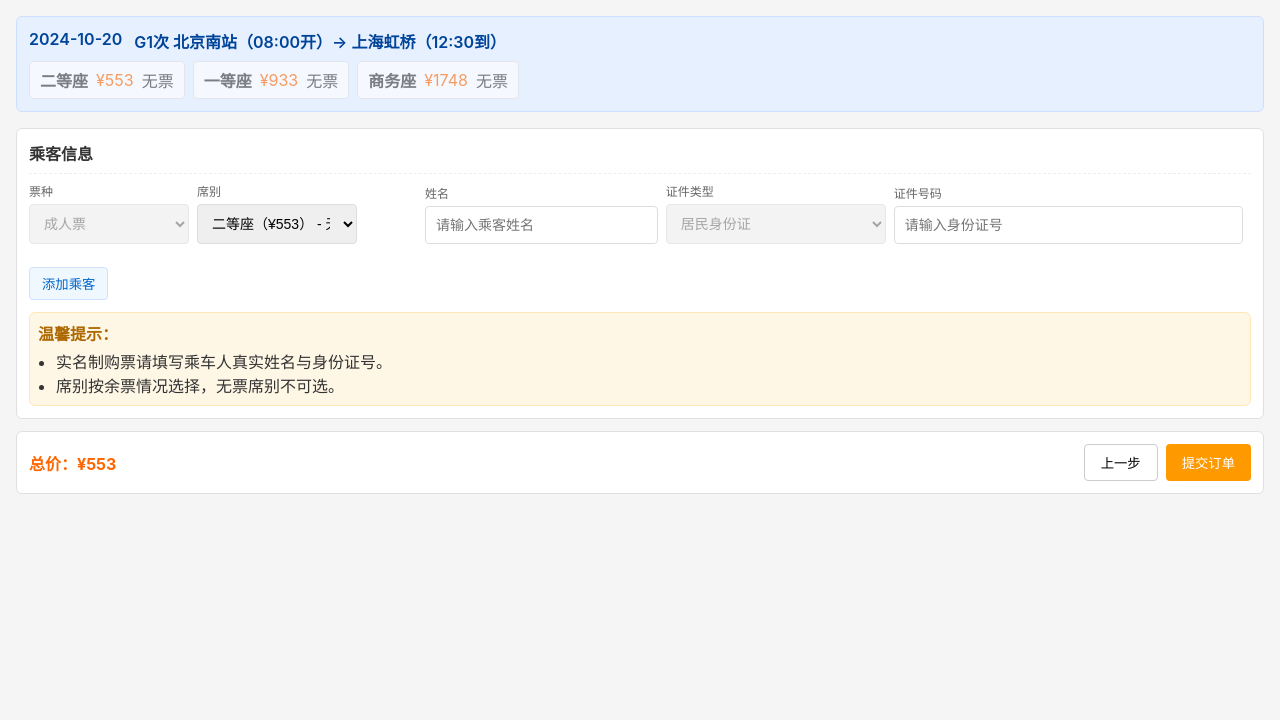
P002_Booking 集成测试 - 提单全流程 › 提交失败显示错误弹窗
Type "王五" into the field with placeholder "请输入乘客姓名" at (541, 225), box [425,206,658,244]
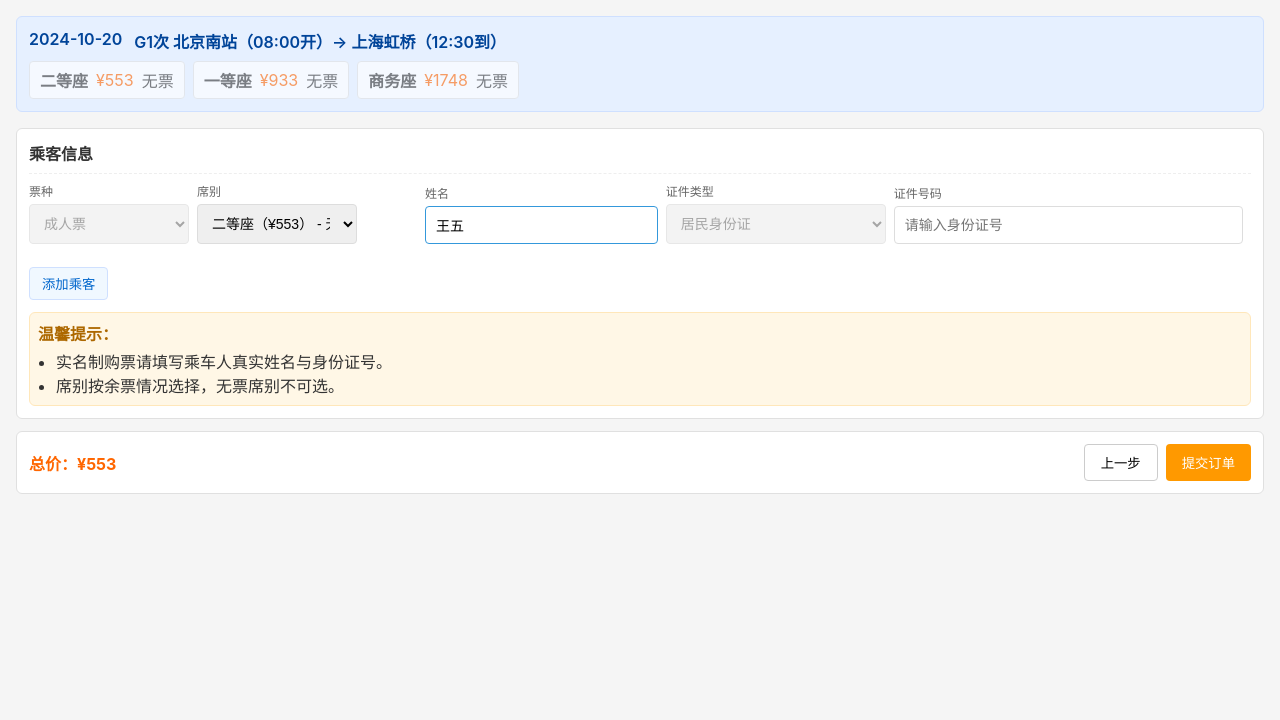
Type "123456789012345678" into the field with placeholder "请输入身份证号" at (1068, 225), box [894,206,1243,244]
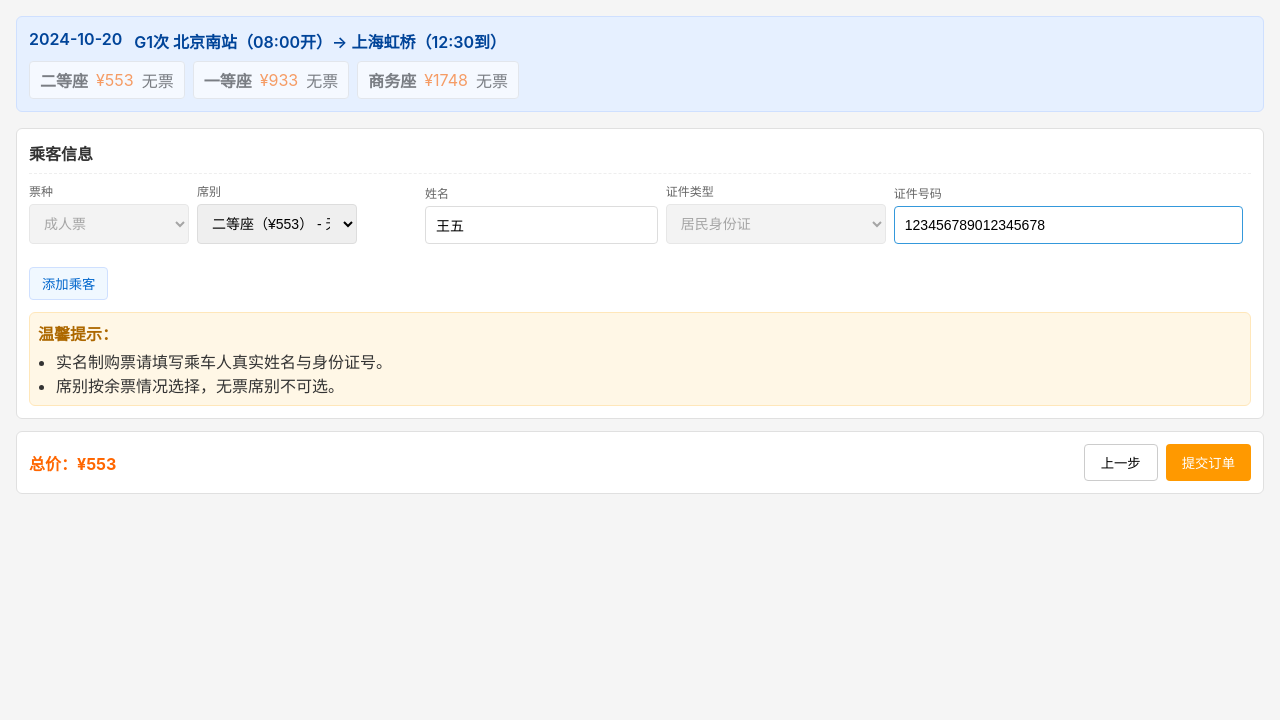
Click the button "提交订单" at (1208, 462), box [1166,444,1251,481]
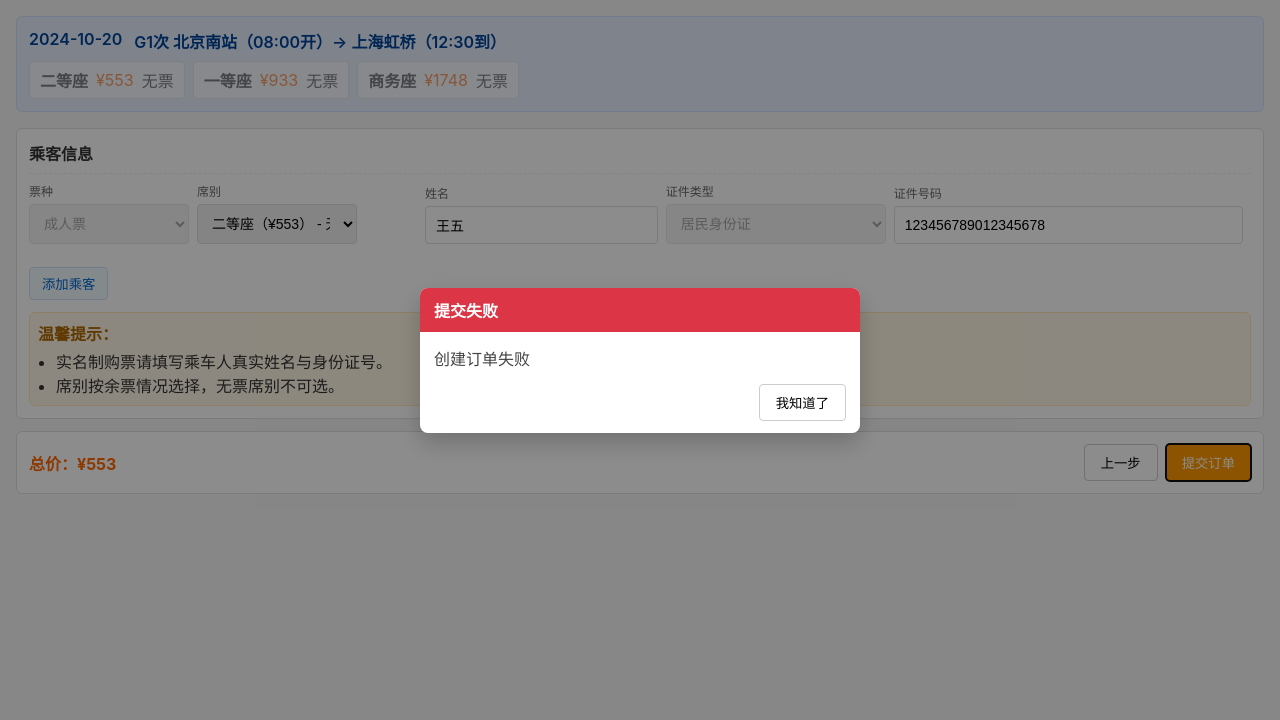
Now the text "创建订单失败" is shown, box [434,348,530,368]
